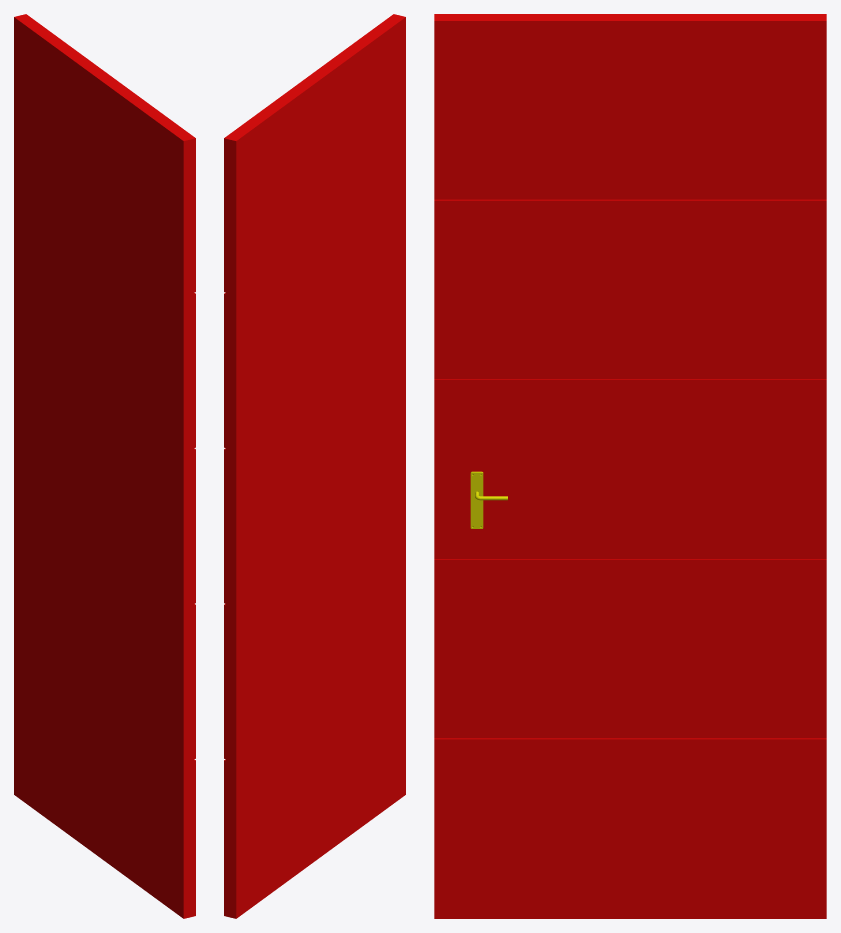
File: OM_3BHK_CM_Living_n_Dining_Door.fbx
3 renders of one model, left to right at view 1: azimuth 30°, elevation 25°; view 2: azimuth 150°, elevation 25°; view 3: azimuth 270°, elevation 25°, orthographic. The views are drawn at different scales.
Visible parts, largest first — view 1: OM_3BHK_CM_Living_n_Dining_Door; view 2: OM_3BHK_CM_Living_n_Dining_Door; view 3: OM_3BHK_CM_Living_n_Dining_Door, OM_3BHK_CM_Living_n_Dining_DoorHandle.
Part boxes in pixels (<box>): OM_3BHK_CM_Living_n_Dining_Door: <box>14,14,195,918</box>; OM_3BHK_CM_Living_n_Dining_Door: <box>224,14,405,918</box>; OM_3BHK_CM_Living_n_Dining_Door: <box>434,14,826,918</box>; OM_3BHK_CM_Living_n_Dining_DoorHandle: <box>470,471,507,528</box>.
Size of the model in its own units: 0.2506 by 7.58 by 3.
